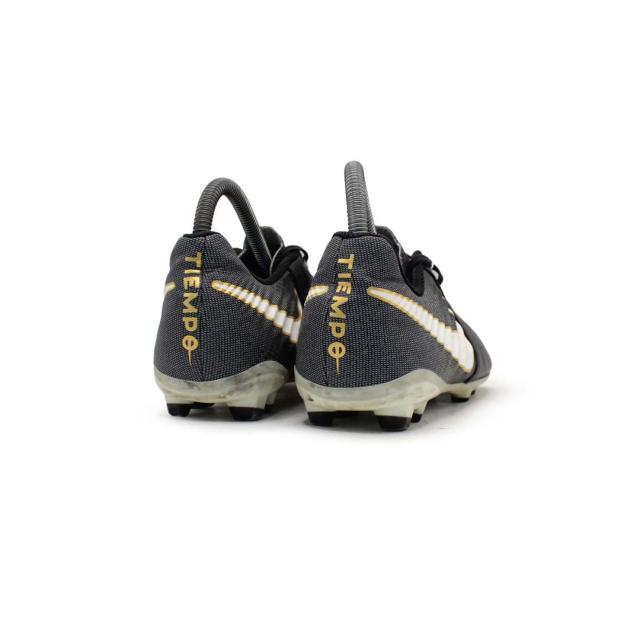heel: (288, 235, 427, 388), (151, 235, 288, 381)
midsole: (295, 370, 448, 423), (153, 364, 279, 417)
